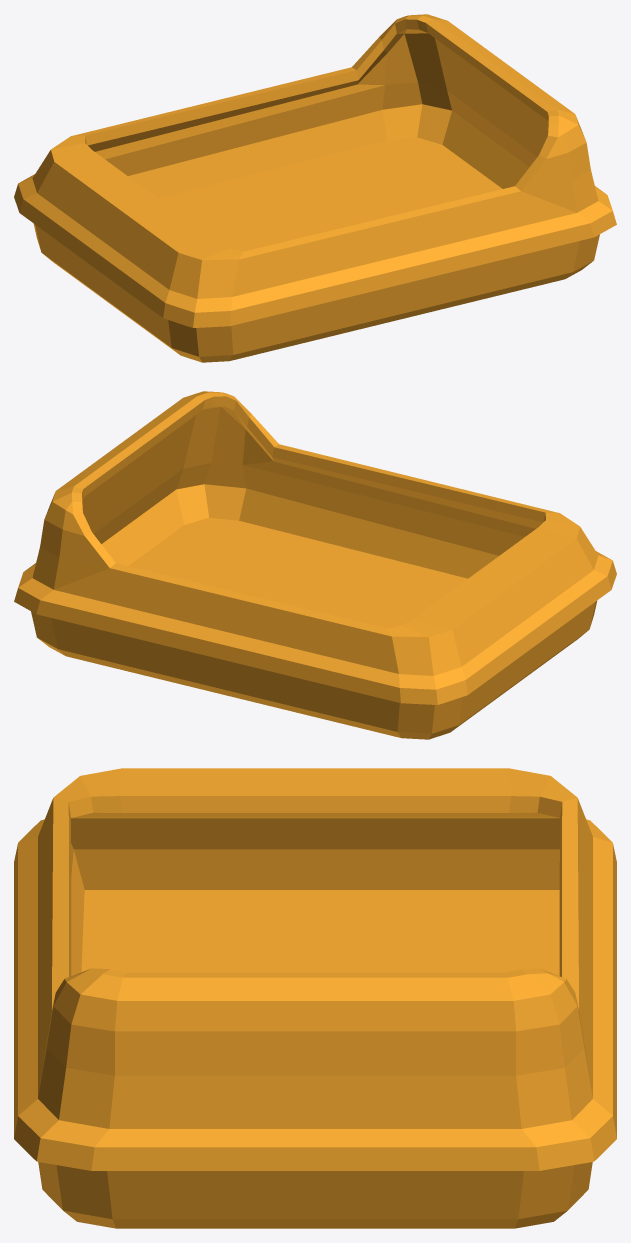
The model's file is SM_Cat_Toilet_Empty.fbx.
The picture shows the model from 3 angles, top to bottom: view 1: azimuth 30°, elevation 25°; view 2: azimuth 150°, elevation 25°; view 3: azimuth 270°, elevation 25°; orthographic projection. The views are drawn at different scales.
Visible parts, largest first — view 1: Cat_Toilet_Empty; view 2: Cat_Toilet_Empty; view 3: Cat_Toilet_Empty.
Part boxes in pixels (x1,y1,x2,y2): Cat_Toilet_Empty: (14,14,616,362); Cat_Toilet_Empty: (14,391,616,739); Cat_Toilet_Empty: (14,768,616,1228).
Bounding box in the file's own units: 0.5965 × 0.1933 × 0.4462.
